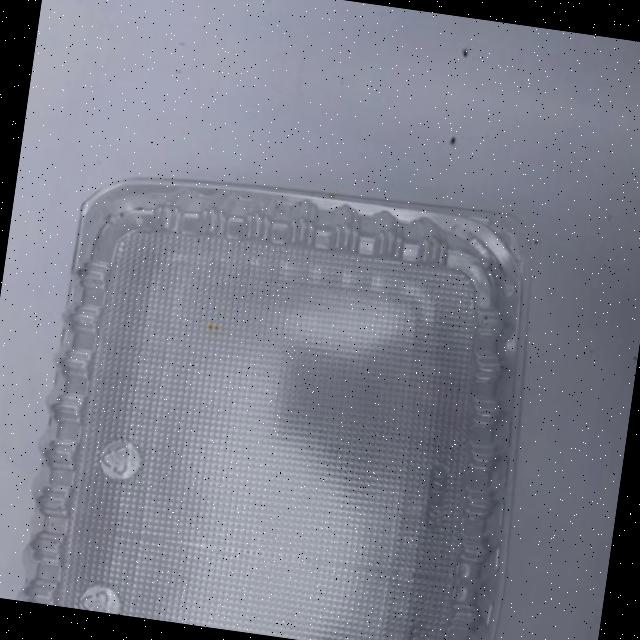Plastic: (0, 140, 582, 592), (0, 516, 529, 640)
